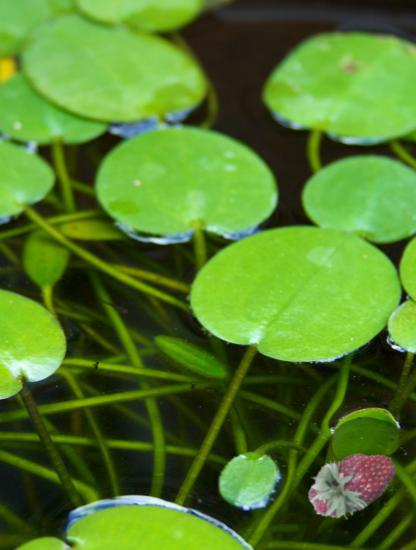Strawberry: (304, 435, 398, 529)
